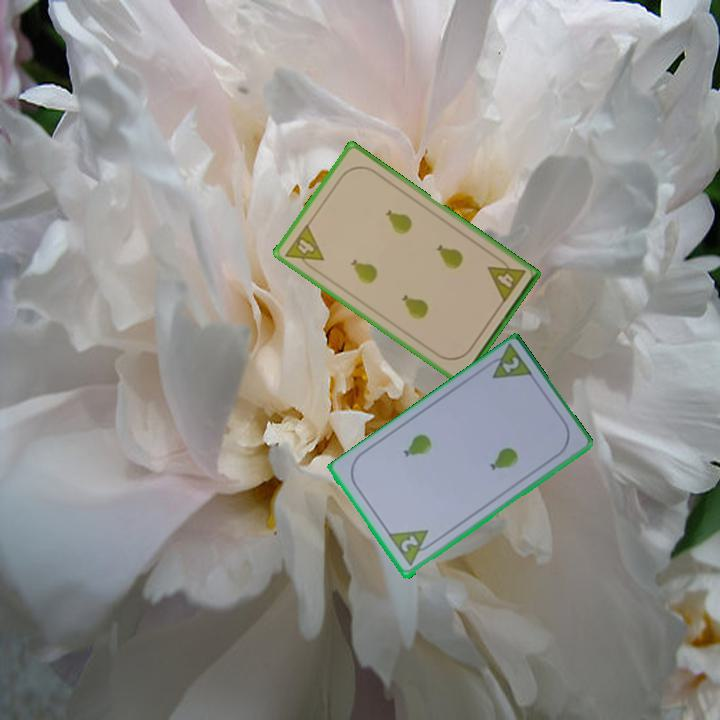2p: (385, 526, 438, 570), (481, 342, 536, 382)
4p: (281, 220, 327, 274), (484, 253, 528, 306)
